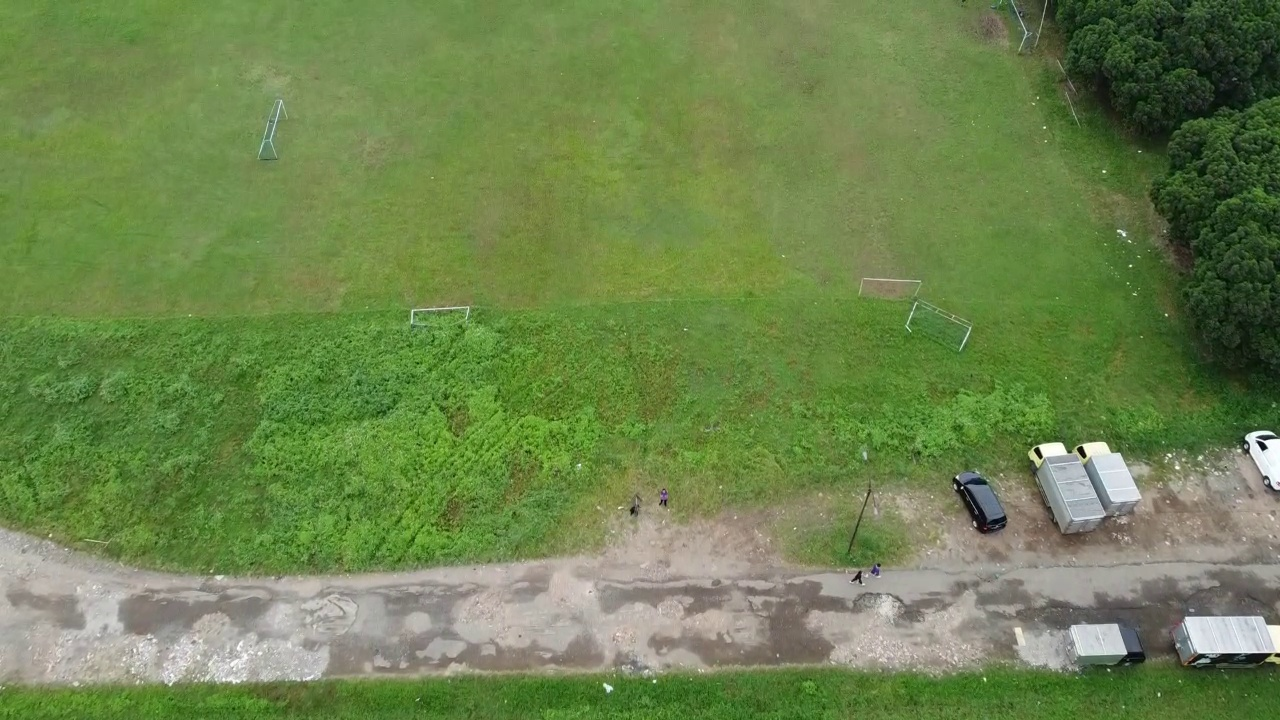mobil: (947, 465, 1013, 536), (1238, 423, 1280, 496)
